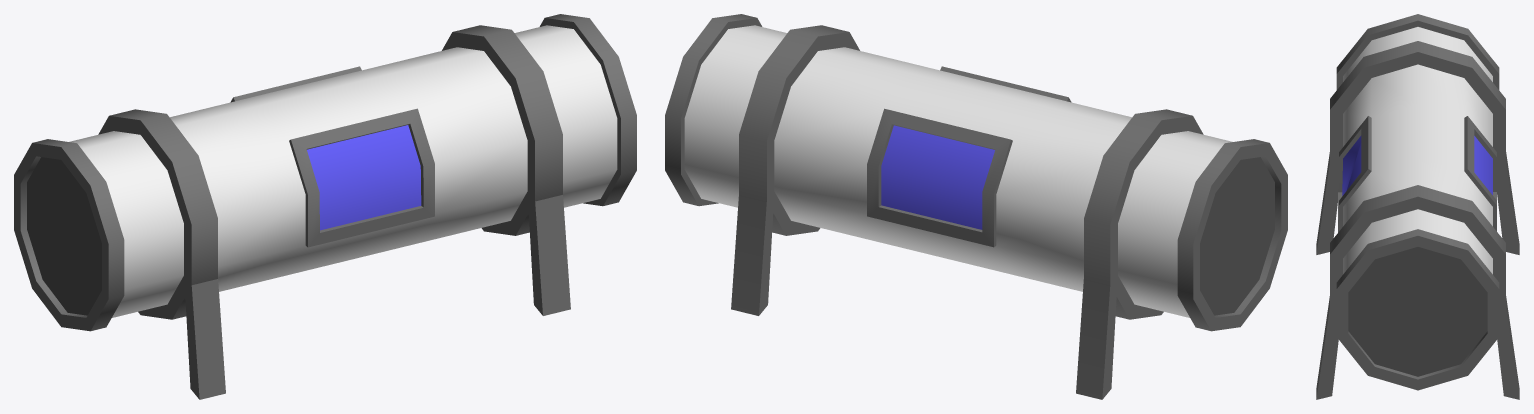
File: PipeI.fbx
3 renders of one model, left to right at view 1: azimuth 30°, elevation 25°; view 2: azimuth 150°, elevation 25°; view 3: azimuth 270°, elevation 25°, orthographic. The views are drawn at different scales.
Visible parts, largest first — view 1: Pipe, Fluid; view 2: Pipe, Fluid; view 3: Pipe, Fluid.
Part boxes in pixels (x1,y1,x2,y2): Pipe: (14,14,636,399); Fluid: (307,125,421,230); Pipe: (665,14,1287,399); Fluid: (881,125,994,229); Pipe: (1316,14,1519,399); Fluid: (1342,135,1492,195).
Size of the model in its own units: 100 by 42.76 by 38.74.
